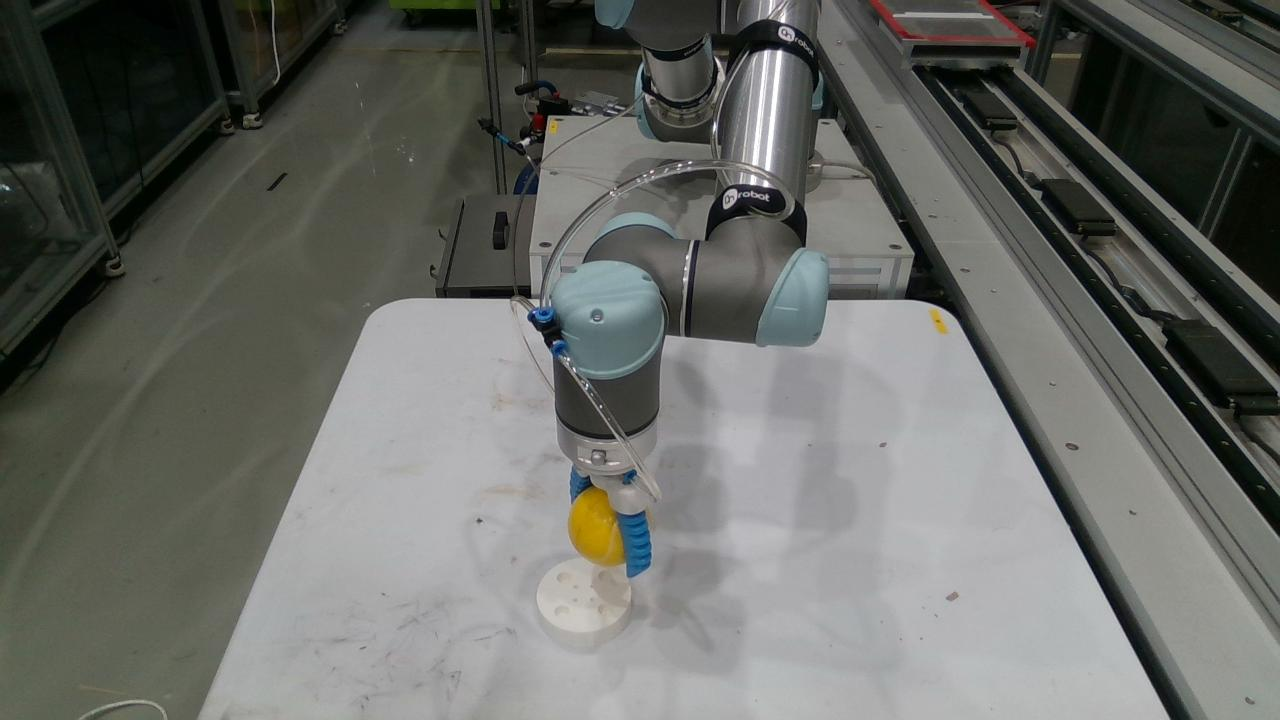UR5: (528, 0, 828, 577)
gripper_left: (570, 466, 592, 504)
gripper_right: (622, 512, 650, 575)
target: (536, 558, 632, 649), (568, 486, 623, 564)
